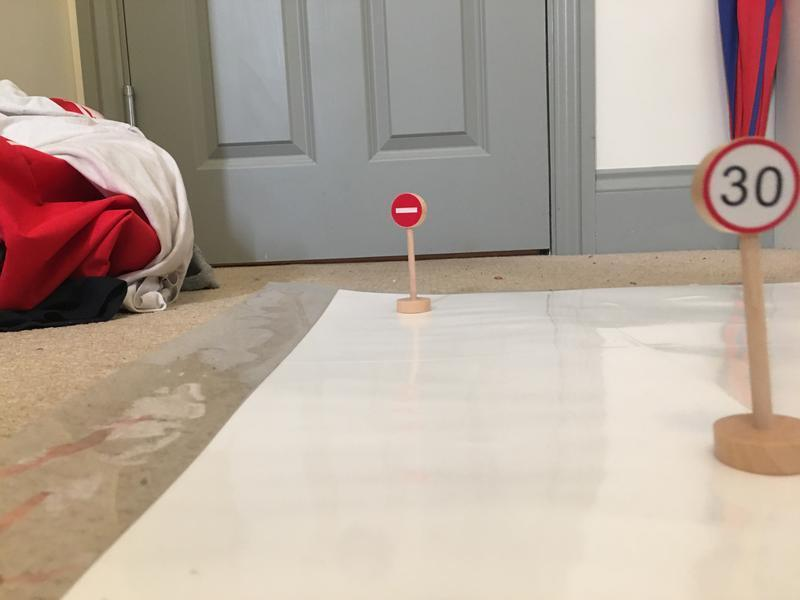Traffic_Sign_30: (704, 137, 800, 230)
Traffic_Sign_No_Entry: (391, 195, 424, 226)
